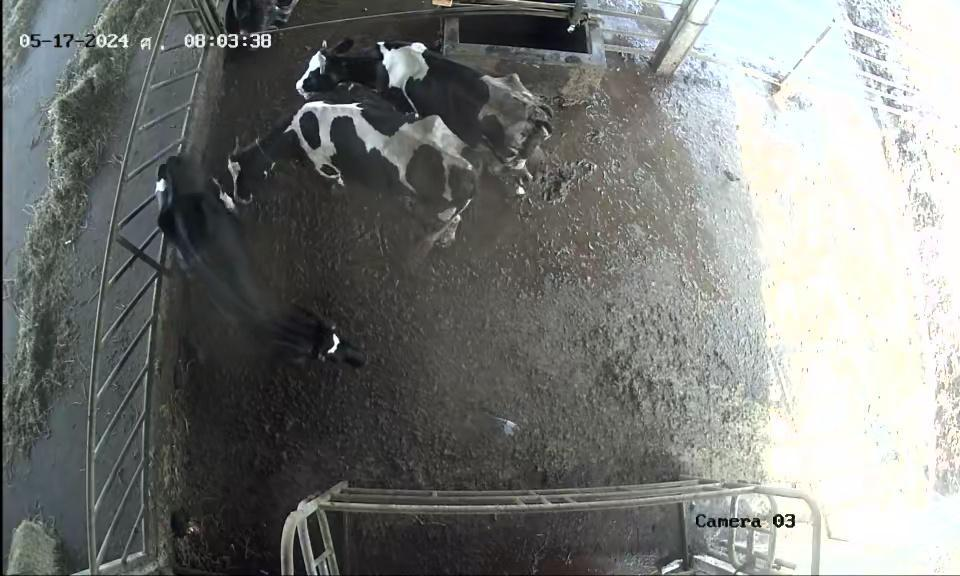stand: (147, 152, 369, 389), (275, 28, 563, 173), (224, 94, 482, 253)
